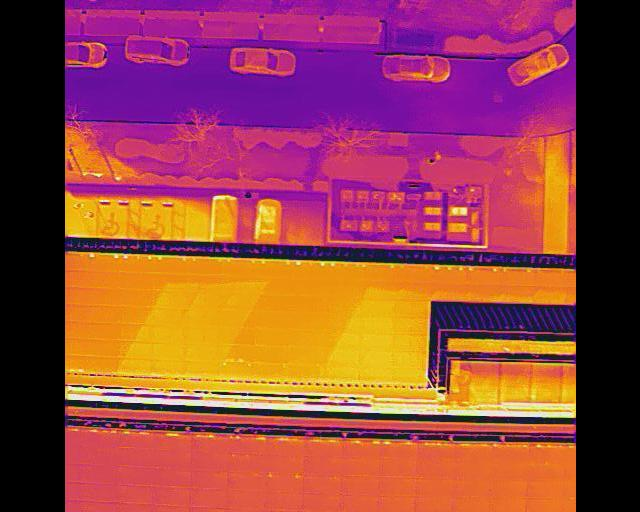Cell-Multi: (526, 444, 565, 463), (378, 442, 416, 461), (265, 472, 302, 491), (79, 430, 116, 449), (491, 444, 528, 463), (344, 441, 379, 460), (230, 437, 265, 454)
No-Anomaly: (527, 459, 565, 481), (451, 478, 492, 498), (113, 466, 153, 486), (190, 469, 228, 490), (526, 477, 565, 497), (113, 447, 152, 467), (379, 457, 416, 478), (190, 451, 228, 471), (226, 488, 264, 508), (153, 467, 191, 487), (112, 484, 152, 503), (265, 454, 304, 473), (452, 462, 491, 481), (303, 456, 342, 475), (302, 493, 340, 512), (341, 474, 379, 493), (301, 475, 341, 493), (153, 486, 189, 506), (490, 479, 526, 499), (416, 460, 452, 480), (338, 494, 378, 512), (80, 464, 115, 484), (78, 446, 113, 466), (263, 492, 301, 510), (228, 454, 264, 473), (489, 462, 527, 480), (412, 495, 451, 512), (414, 480, 453, 497), (379, 477, 415, 495), (155, 451, 190, 469), (189, 489, 226, 506), (343, 458, 380, 475), (80, 482, 113, 501), (374, 496, 413, 512), (228, 473, 263, 490), (523, 497, 562, 512), (116, 432, 152, 448), (191, 437, 227, 453), (486, 498, 526, 512), (451, 498, 490, 512), (80, 501, 113, 512), (114, 504, 152, 512), (153, 505, 189, 512), (189, 508, 226, 512)
Unclassified: (302, 439, 342, 458), (455, 443, 493, 463), (152, 432, 191, 451), (266, 438, 303, 456), (416, 442, 452, 460)
